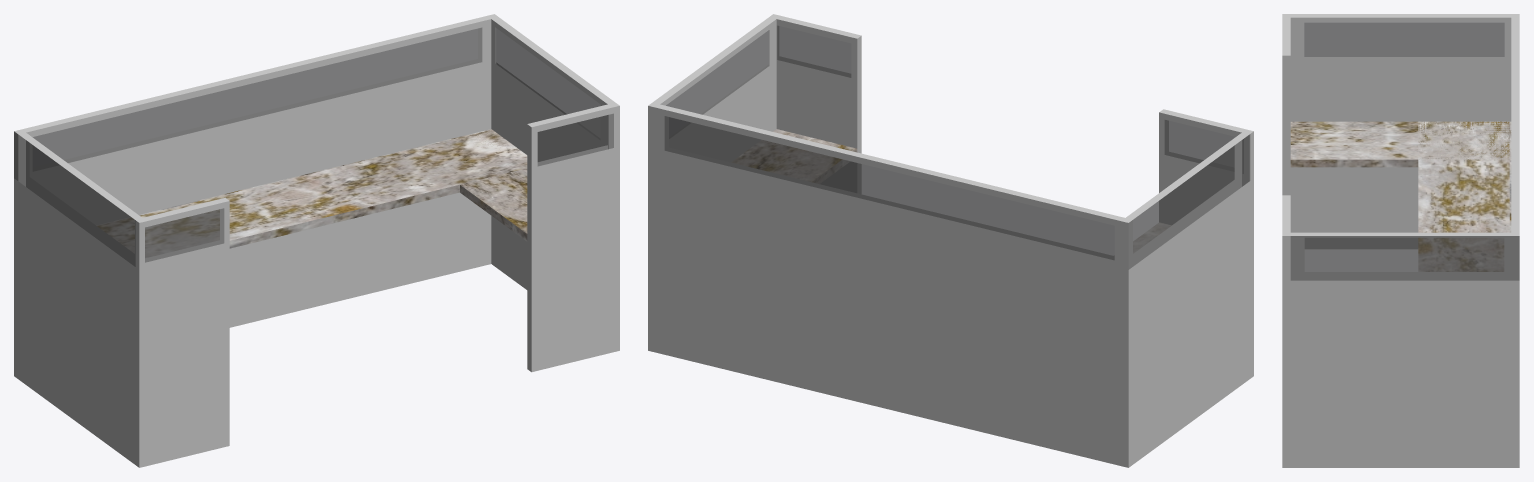
File: Office Desk .fbx
3 renders of one model, left to right at view 1: azimuth 30°, elevation 25°; view 2: azimuth 150°, elevation 25°; view 3: azimuth 270°, elevation 25°, orthographic. The views are drawn at different scales.
Visible parts, largest first — view 1: office_desk13; view 2: office_desk13; view 3: office_desk13.
Part boxes in pixels (box(x1,y1,x2,y2)): office_desk13: box(14, 14, 619, 467); office_desk13: box(648, 14, 1253, 467); office_desk13: box(1282, 14, 1519, 467).
Size of the model in its own units: 37.99 by 18.51 by 17.16.
Materials: 3 (1 with a texture image).
